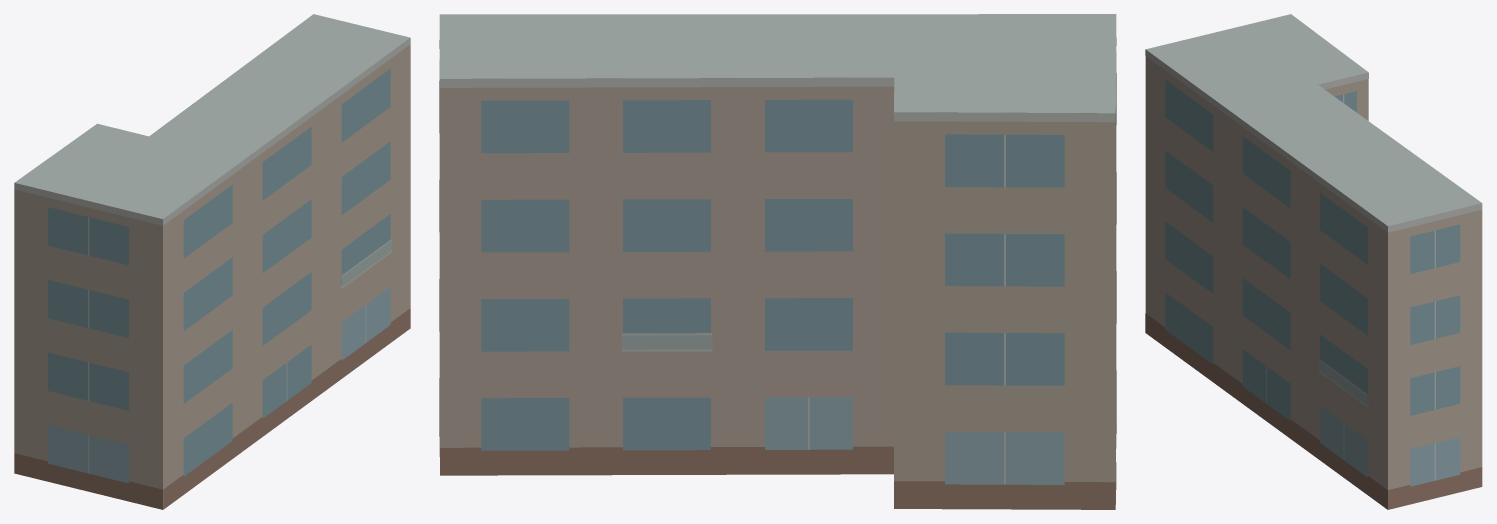
The model's file is survey-upis-32694460.glb.
3 renders of one model, left to right at view 1: azimuth 30°, elevation 25°; view 2: azimuth 150°, elevation 25°; view 3: azimuth 270°, elevation 25°, orthographic. The views are drawn at different scales.
Parts seen in each view (by area): view 1: survey-upis-32694460.tmp; view 2: survey-upis-32694460.tmp; view 3: survey-upis-32694460.tmp.
Boxes of the visible parts, x1,y1,x2,y2 form: survey-upis-32694460.tmp: (14,14,410,509); survey-upis-32694460.tmp: (439,14,1116,509); survey-upis-32694460.tmp: (1145,14,1482,509).
Size of the model in its own units: 17.19 by 10.7 by 11.53.
